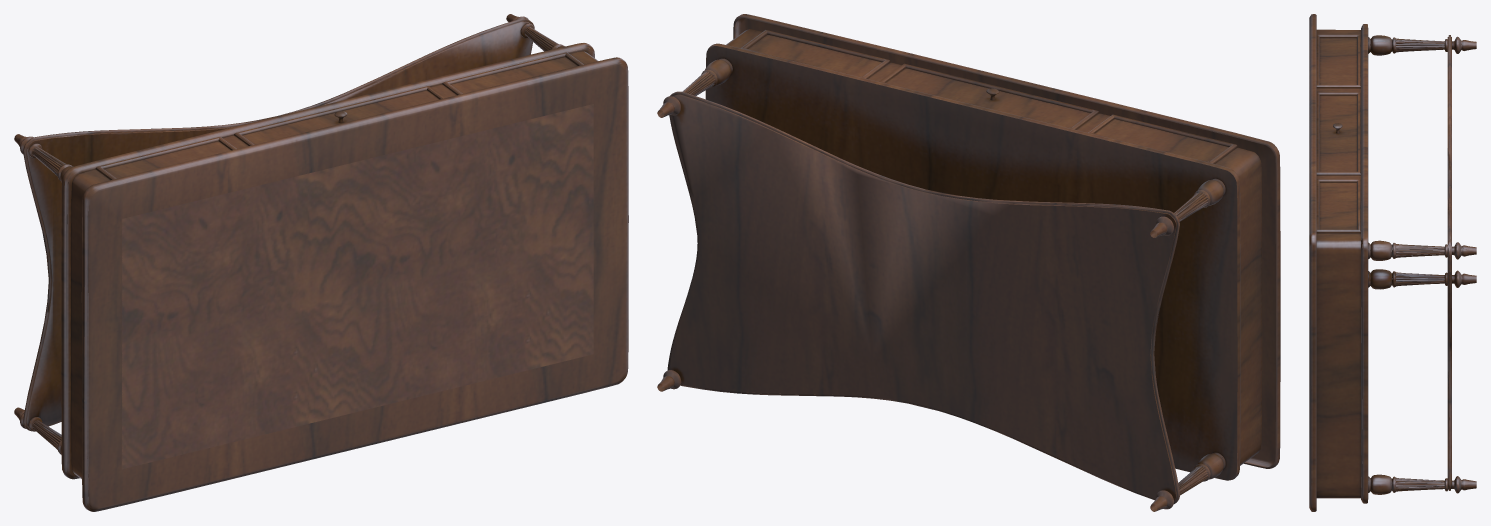
File: raw_model.glb
3 views of the same model, side by side, from view 1: azimuth 30°, elevation 25°; view 2: azimuth 150°, elevation 25°; view 3: azimuth 270°, elevation 25° (orthographic). The views are drawn at different scales.
Visible parts, largest first — view 1: raw_model.015; view 2: raw_model.015; view 3: raw_model.015.
Part boxes in pixels (x1,y1,x2,y2): raw_model.015: (14,14,628,511); raw_model.015: (657,14,1280,511); raw_model.015: (1309,14,1476,511).
Size of the model in its own units: 1.24 by 0.7125 by 0.3863.
Materials: 1 (1 with a texture image).
